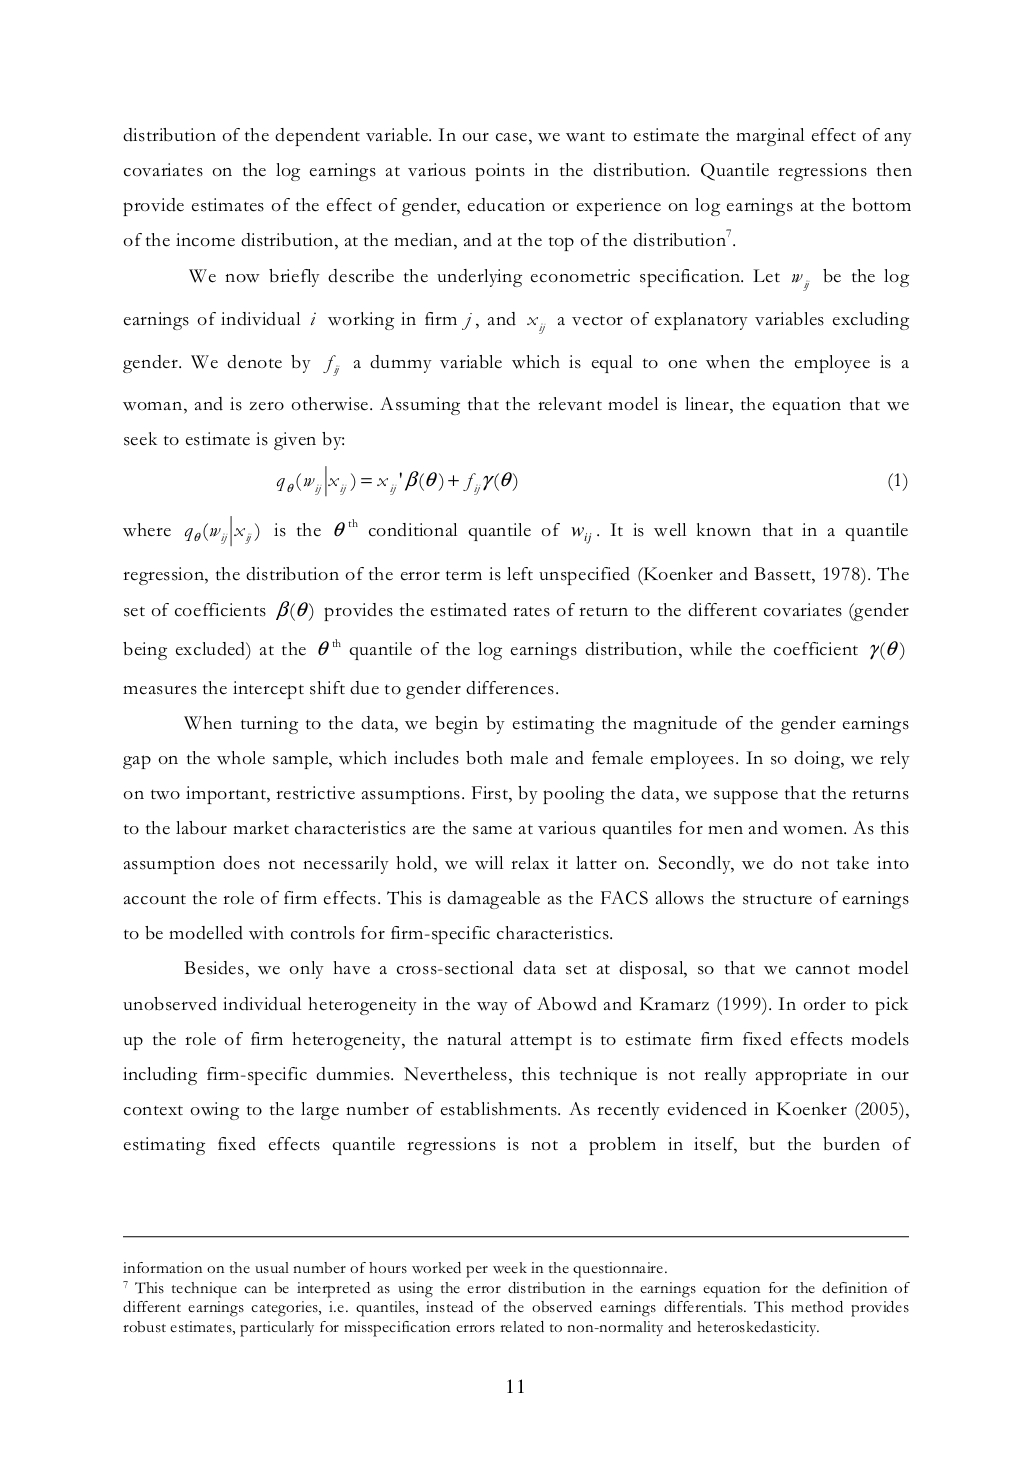formula: (276, 465, 907, 497)
